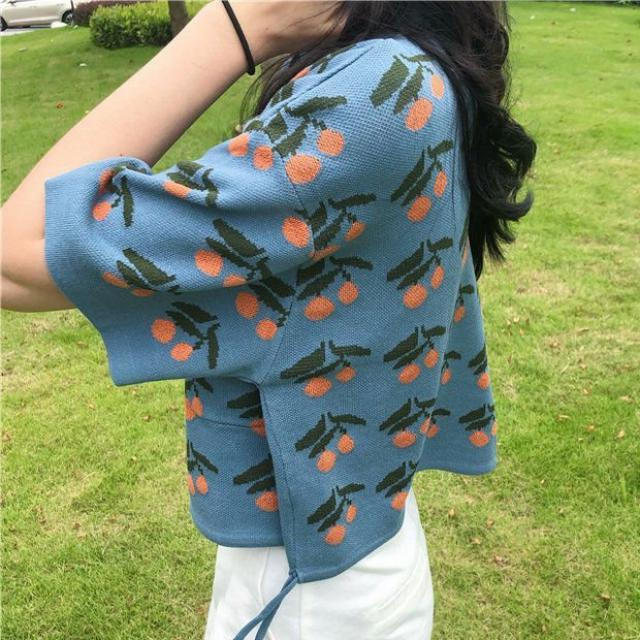Shirt: (41, 28, 515, 579)
